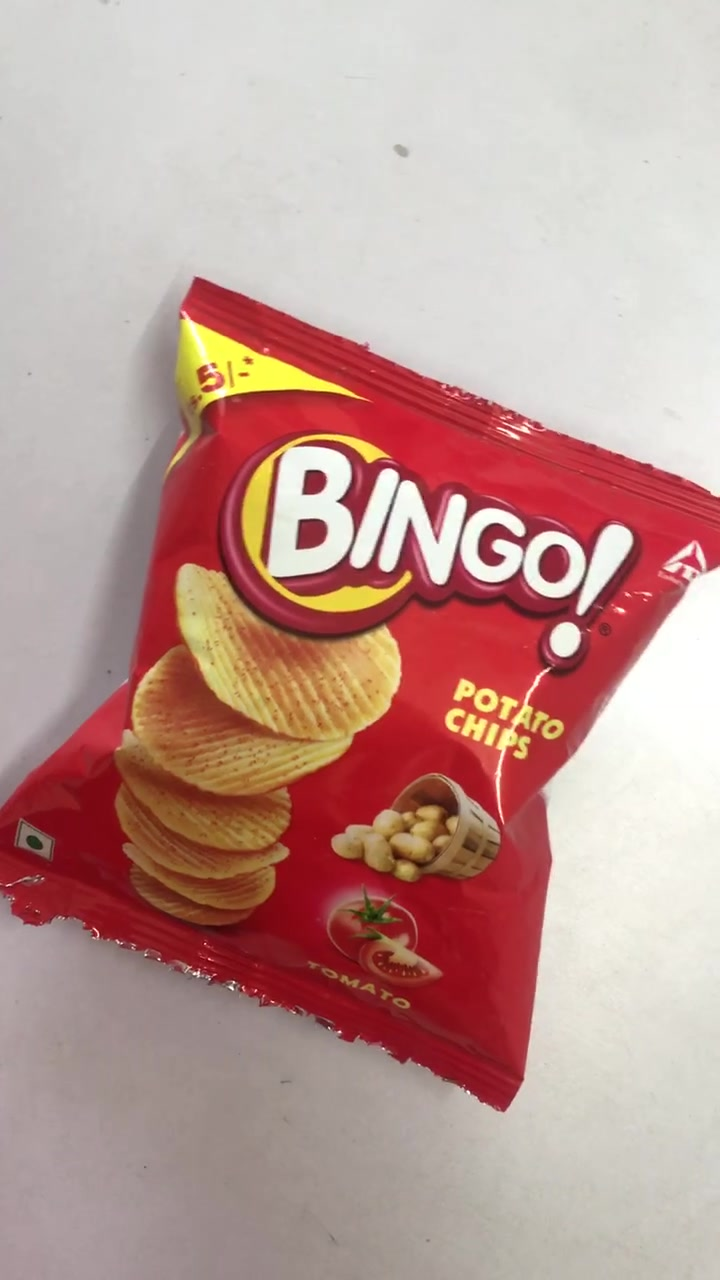Bingo: (14, 287, 720, 1104)
